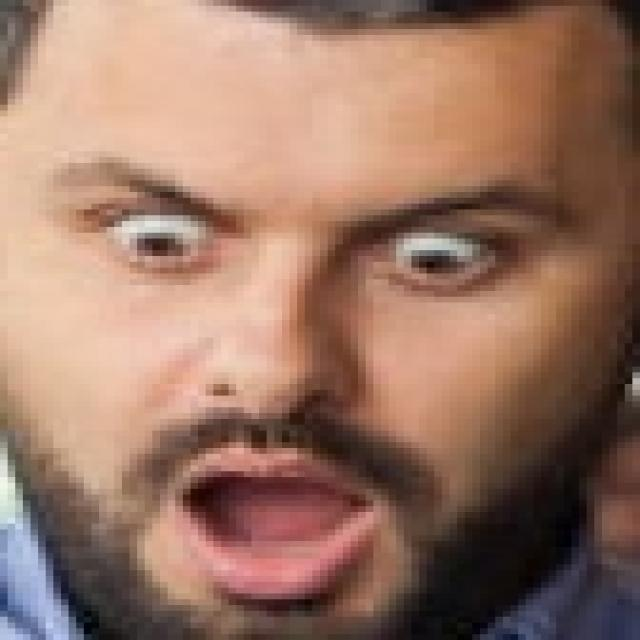Anxiety: (8, 2, 636, 634)
